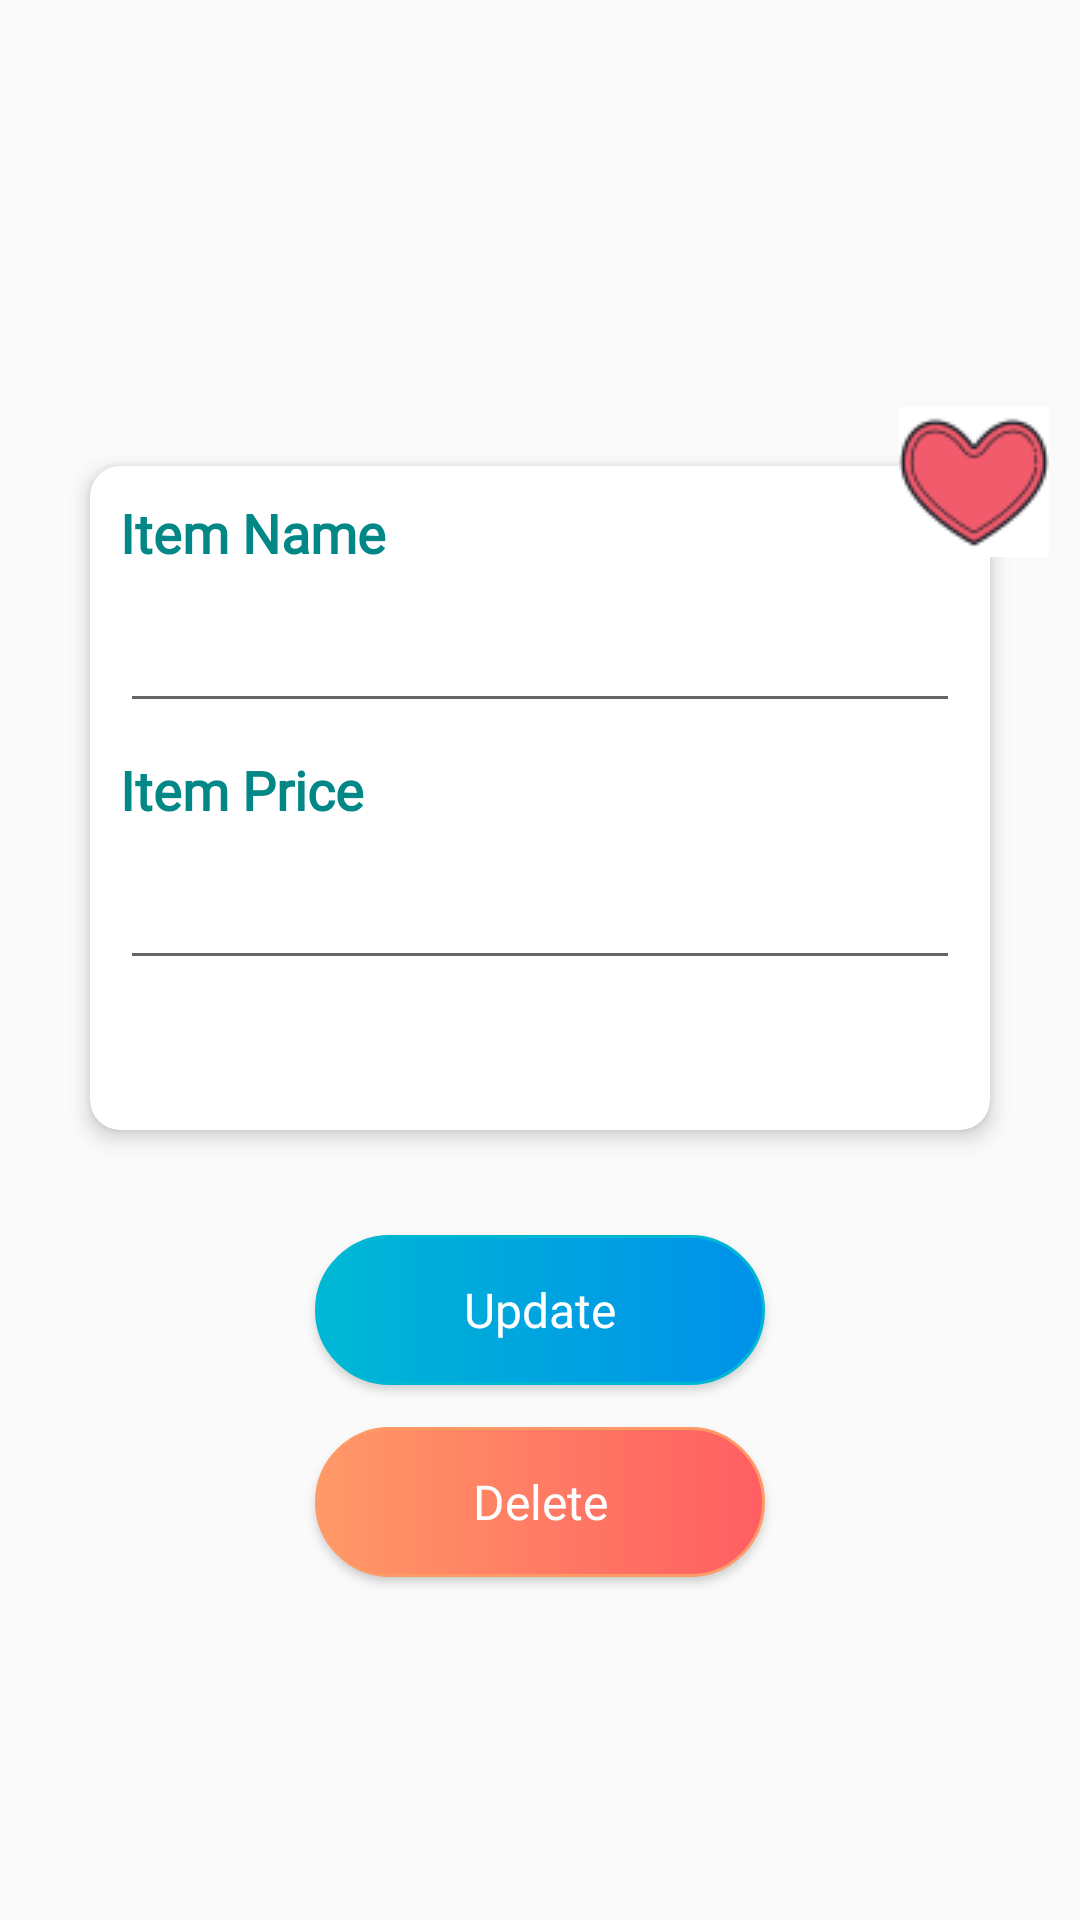

Where icons sit on this 1080×1920 app screen, as [left=x1, top=y1, right=x2, bottom=y2]:
add wishlist: [left=899, top=418, right=1049, bottom=546]
